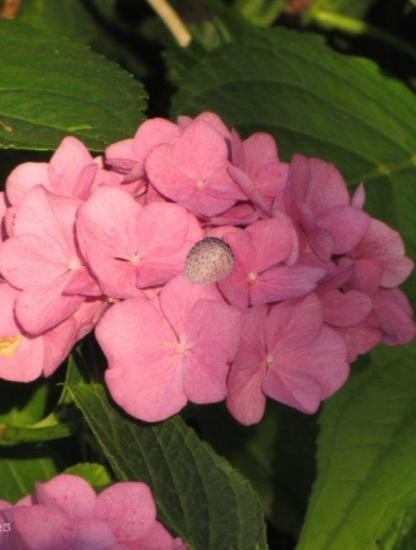Lychee: (181, 235, 235, 289)
